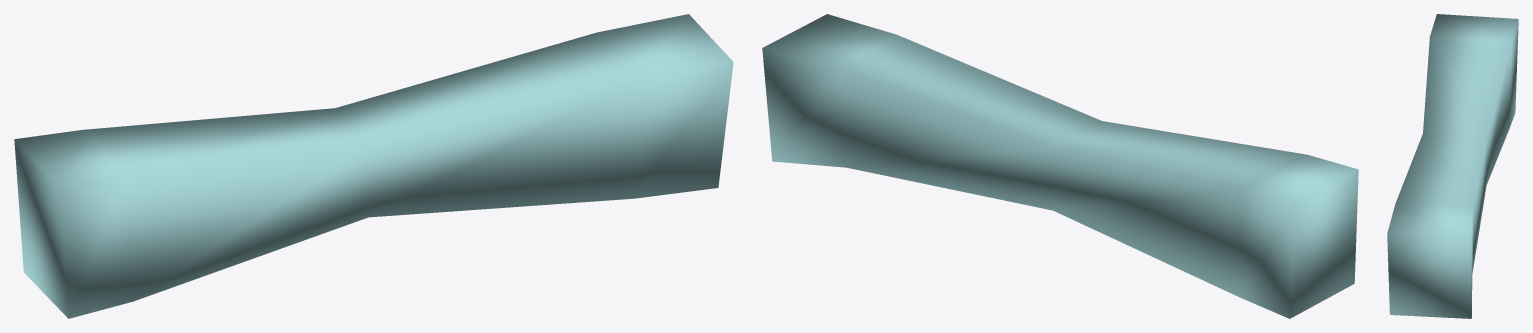
File: Skelly_palm.03.R.fbx
3 renders of one model, left to right at view 1: azimuth 30°, elevation 25°; view 2: azimuth 150°, elevation 25°; view 3: azimuth 270°, elevation 25°, orthographic. The views are drawn at different scales.
Parts seen in each view (by area): view 1: Skelly_palm.03.R; view 2: Skelly_palm.03.R; view 3: Skelly_palm.03.R.
Boxes of the visible parts, x1,y1,x2,y2 form: Skelly_palm.03.R: (14,14,733,318); Skelly_palm.03.R: (762,14,1358,318); Skelly_palm.03.R: (1387,14,1518,318).
Size of the model in its own units: 8.57 by 1.67 by 2.16.
